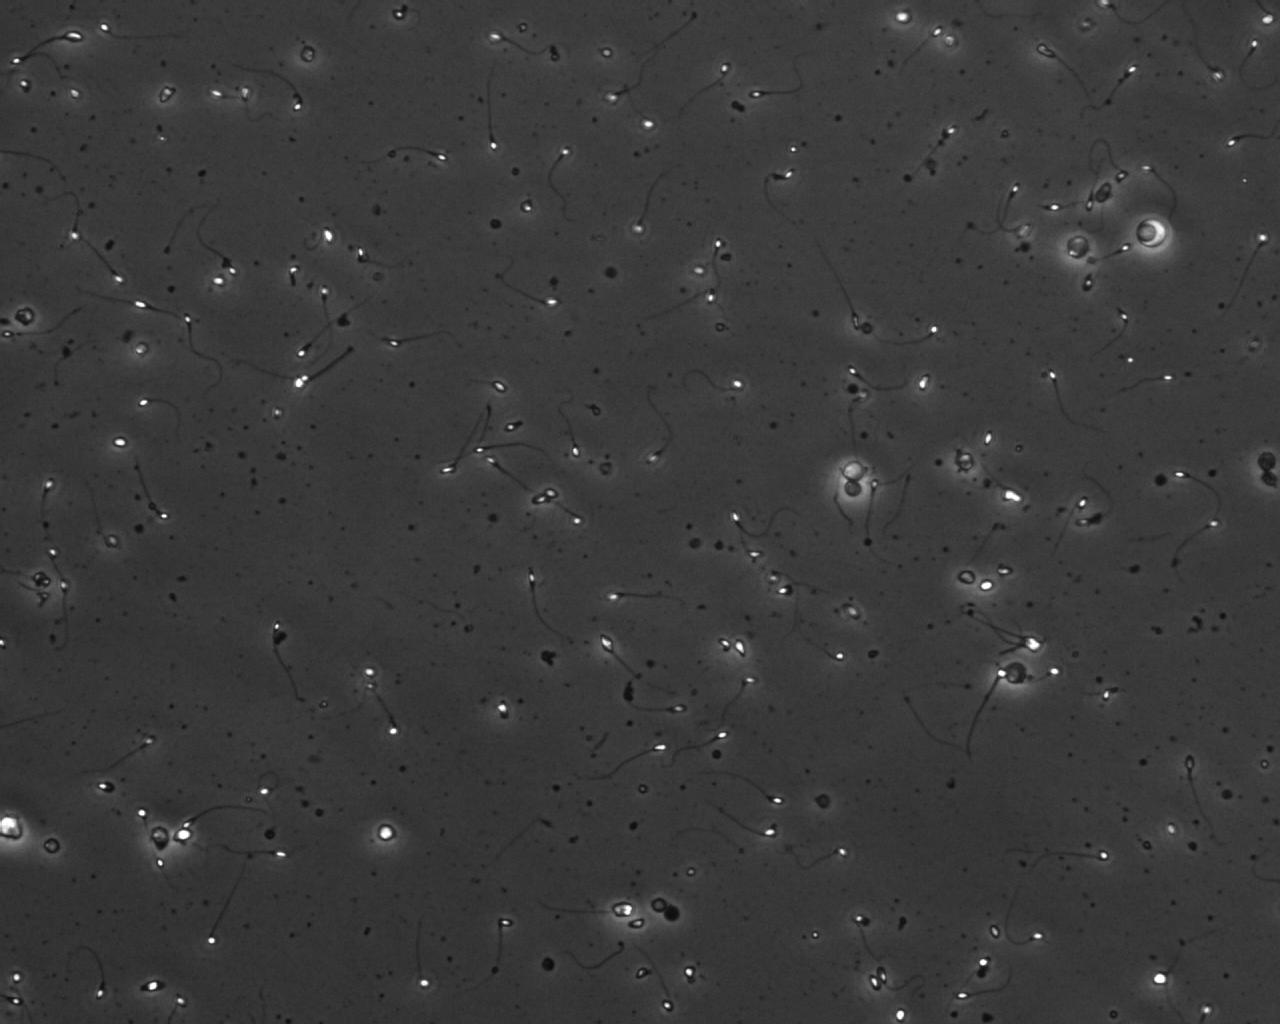cell: (1131, 211, 1174, 255), (1062, 232, 1094, 263), (999, 658, 1030, 688), (0, 811, 27, 844), (839, 456, 868, 485), (146, 820, 173, 850), (1253, 447, 1280, 475), (951, 448, 978, 475), (371, 820, 400, 845), (11, 303, 37, 330), (839, 476, 866, 502), (952, 565, 980, 589), (39, 833, 64, 858), (296, 41, 320, 67), (609, 899, 637, 921), (646, 893, 671, 917), (660, 901, 684, 926), (1257, 467, 1280, 491), (171, 824, 196, 846), (975, 575, 998, 596)
